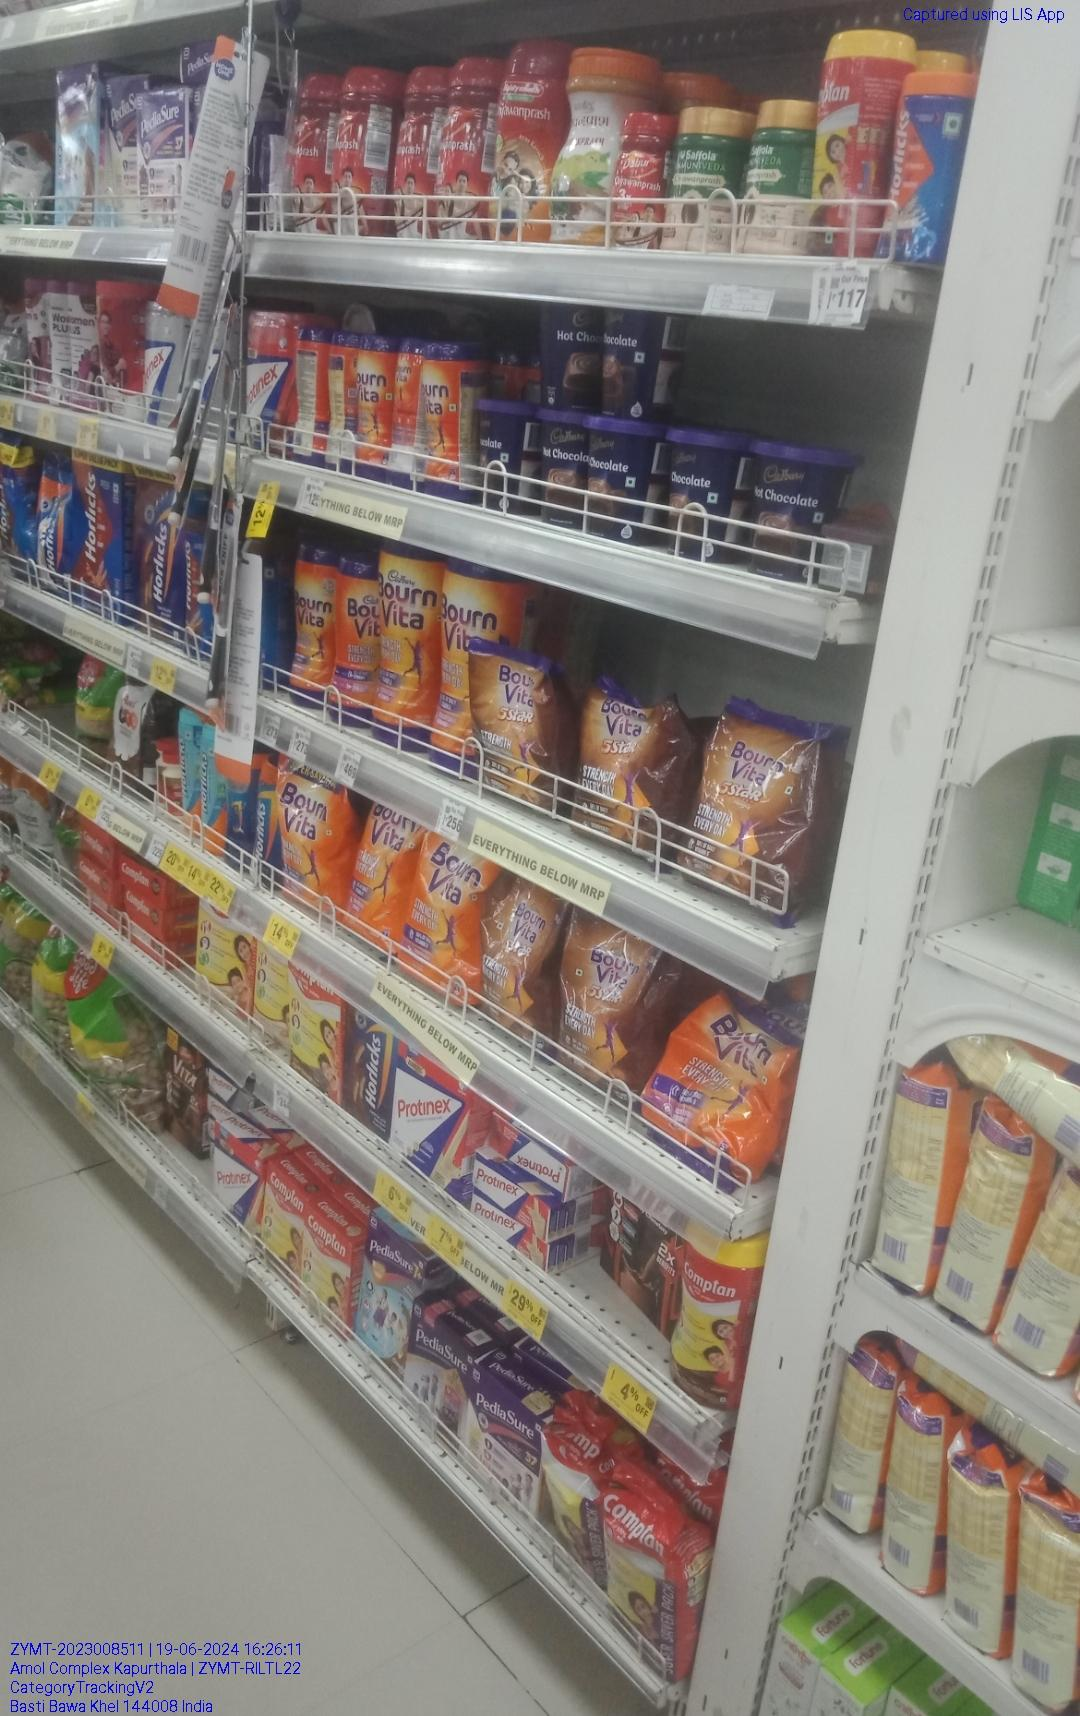BOURN_VITA_1_KG_JAR: (375, 548, 443, 748)
BOURN_VITA_FIVE_STAR_MAGIC_500_G_POUCH: (694, 708, 826, 906), (560, 922, 662, 1107), (574, 691, 677, 855), (469, 641, 561, 801), (479, 876, 554, 1047)
HORLICK_CLASSIC_MALT_500_G_JAR: (886, 71, 963, 263)
